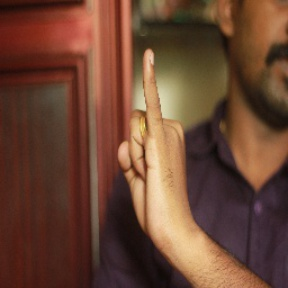I: (115, 49, 194, 232)
